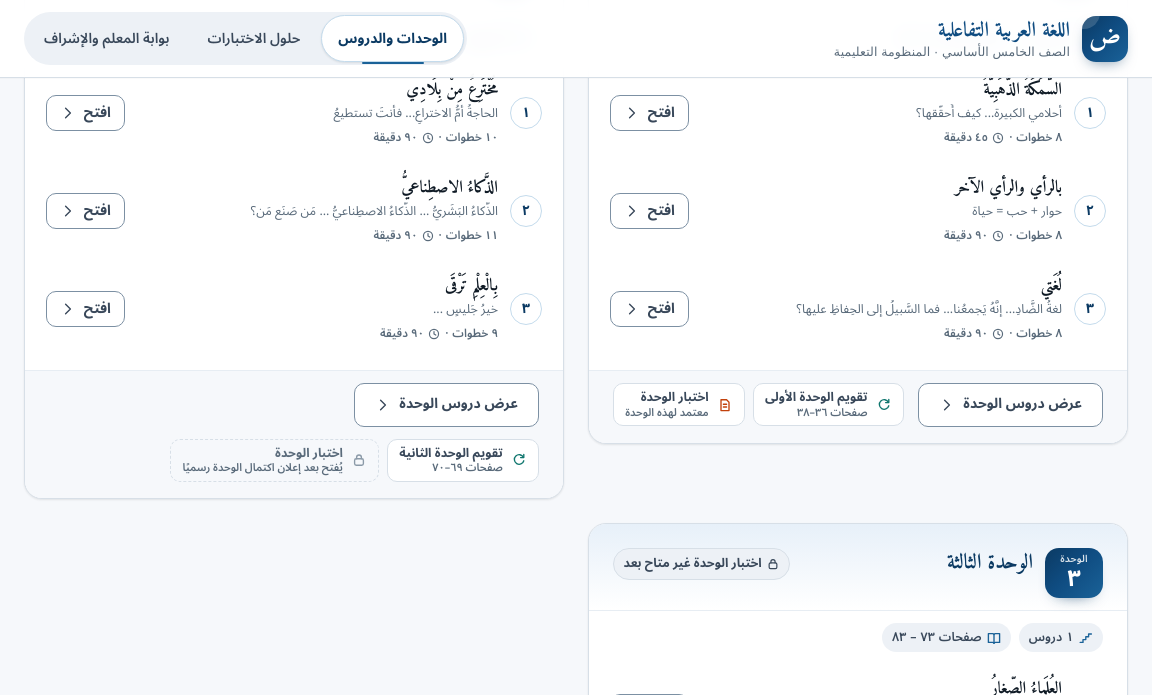
Test: PR1 — assessment draft guard across every leaving path › keeps the supported return path working after a normal submit
The image size is (1152, 695).
(page scrolled)
Click the button with aria-label "عرض دروس الوحدة الأولى".
click(1011, 405)  # box [918,383,1103,427]
(page scrolled)
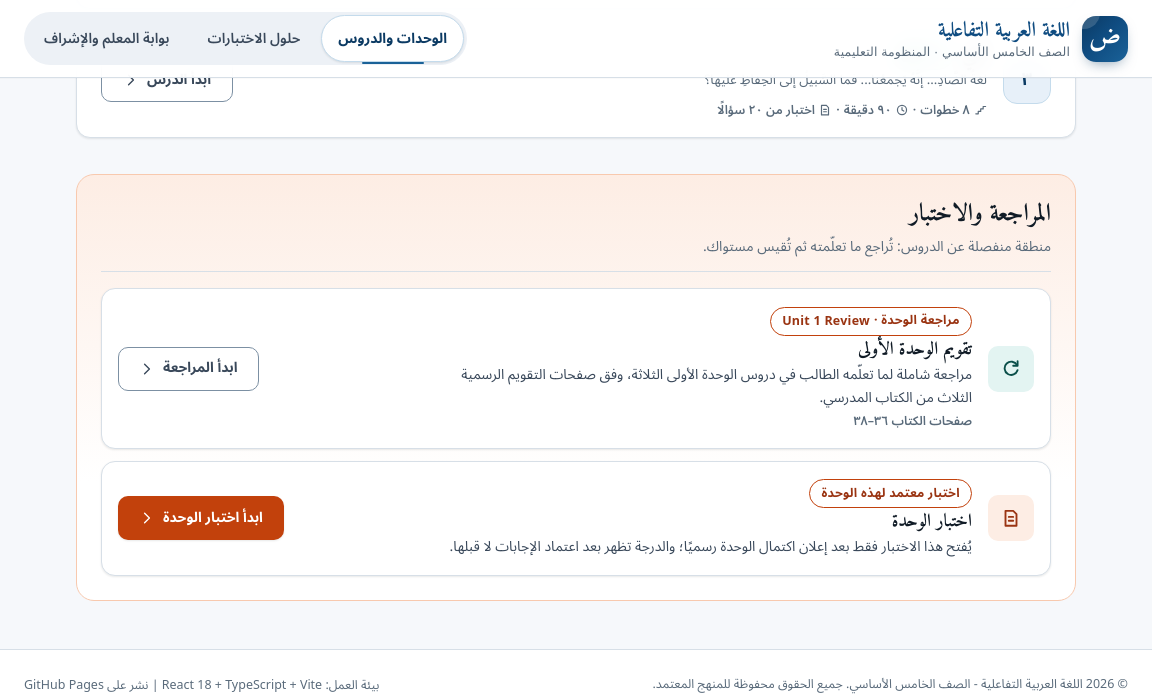
Click the button "ابدأ اختبار الوحدة".
click(201, 518)  # box [118,496,284,540]
(page scrolled)
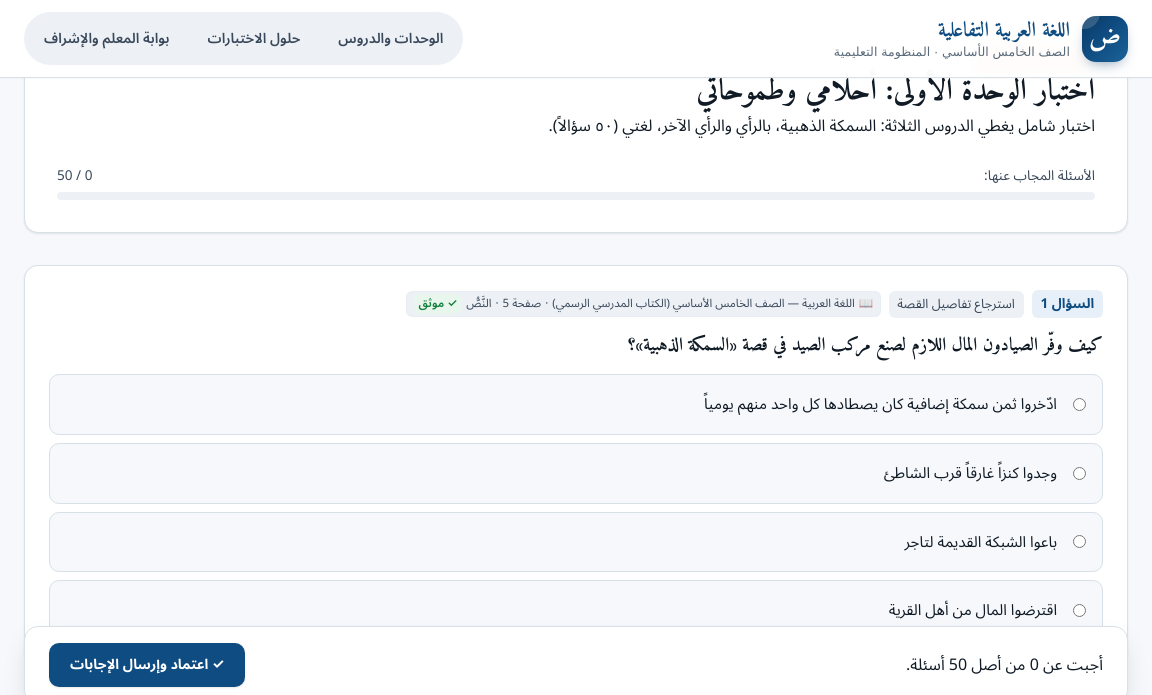
Click the radio button labelled "ادّخروا ثمن سمكة إضافية كان يصطادها كل واحد منهم يومياً".
click(1080, 405)  # box [1073,398,1086,411]
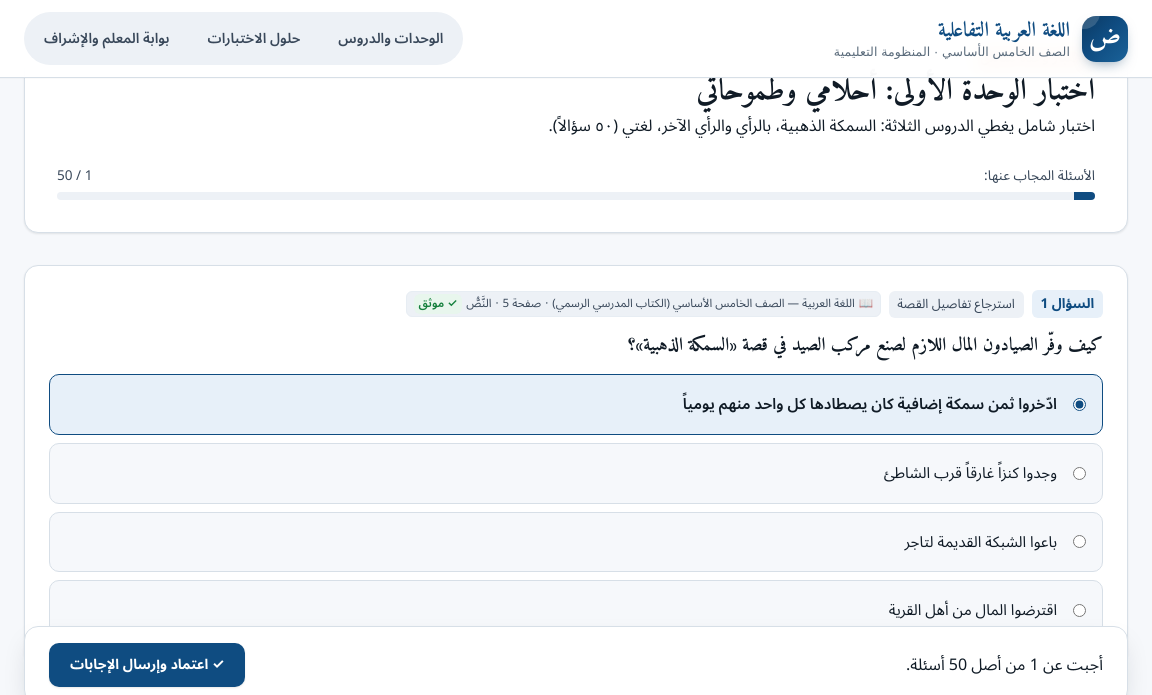
Click the button "✓ اعتماد وإرسال الإجابات".
click(147, 665)  # box [49,643,245,687]
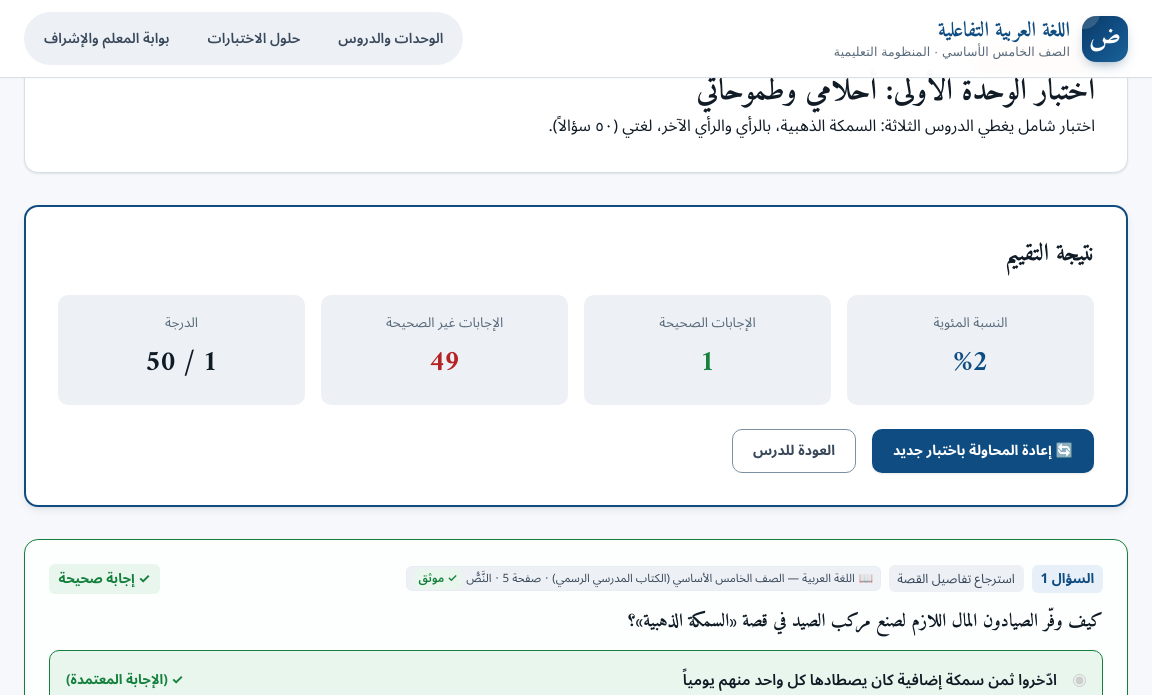
Check: the element named "نتائج الاختبار" is shown, box [24,205,1128,507]
Click the button "العودة للدرس".
click(794, 451)  # box [732,429,856,473]
(page scrolled)
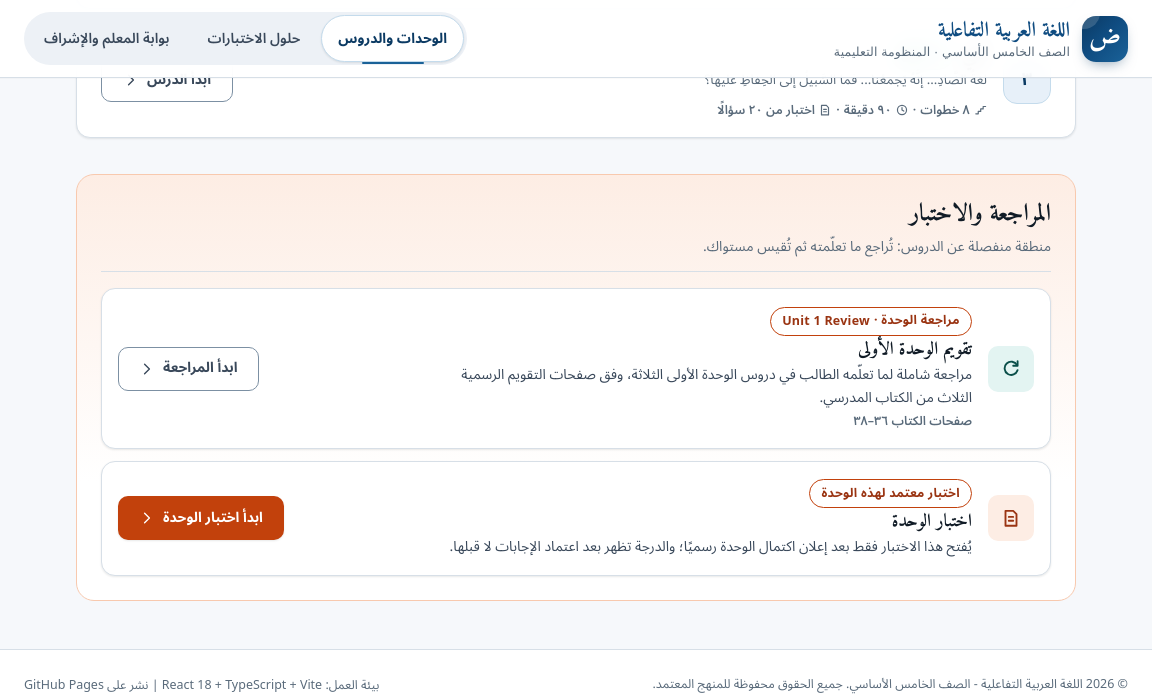
Check: the button "ابدأ اختبار الوحدة" is shown, box [118,496,284,540]
